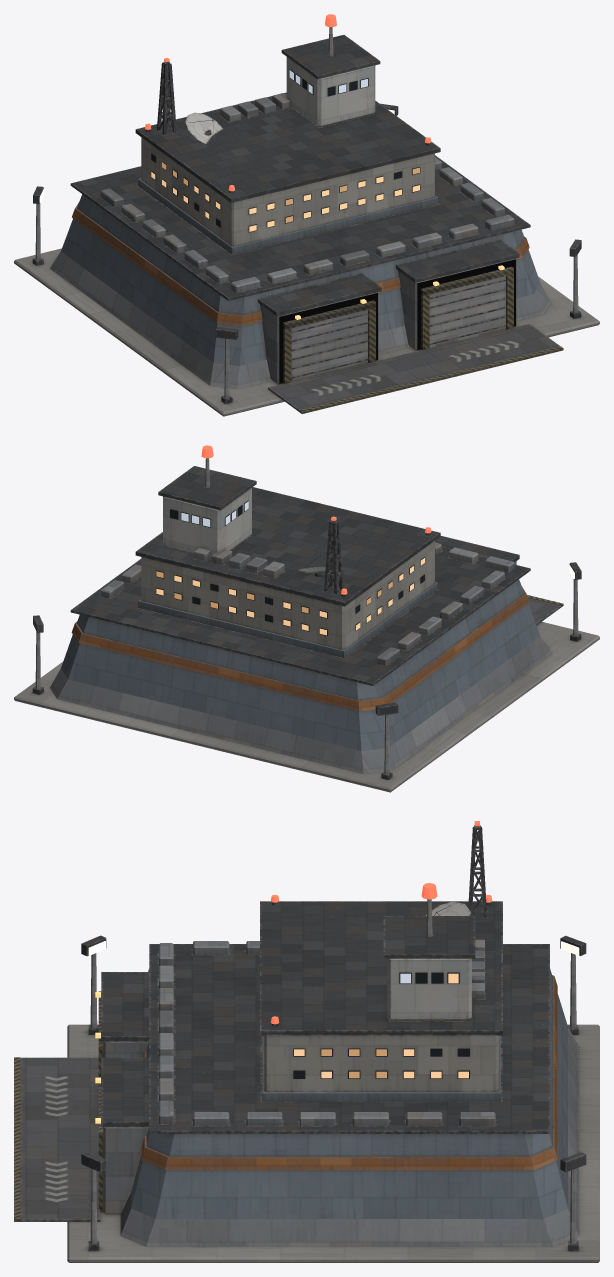
The model's file is garrison.glb.
The picture shows the model from 3 angles, top to bottom: view 1: azimuth 30°, elevation 25°; view 2: azimuth 150°, elevation 25°; view 3: azimuth 270°, elevation 25°; orthographic projection. The views are drawn at different scales.
Visible parts, largest first — view 1: garrison_hull, garrison_lights; view 2: garrison_hull, garrison_lights; view 3: garrison_hull, garrison_lights.
Part boxes in pixels (box(x1,y1,x2,y2)): garrison_hull: box(14, 27, 599, 416); garrison_lights: box(39, 14, 569, 319); garrison_hull: box(14, 458, 599, 792); garrison_lights: box(41, 445, 574, 635); garrison_hull: box(14, 825, 599, 1262); garrison_lights: box(88, 821, 579, 1123).
Bounding box in the file's own units: 52 × 31 × 55.
Materials: 8 (1 with a texture image).
